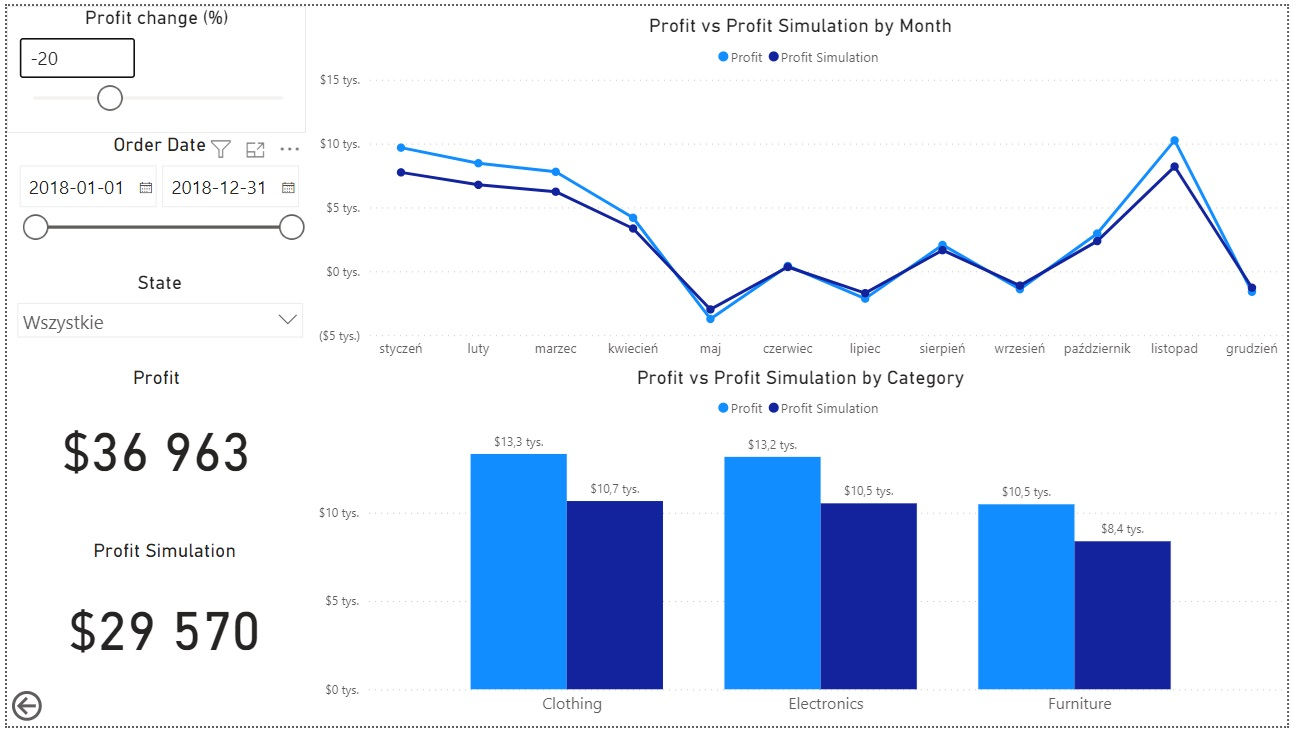

The page's visual inventory and layout, read from the dashboard file:
{"tool":"powerbi","page":{"name":"Details","canvas":[1280,720],"ordinal":1},"visuals":[{"type":"slicer","title":"Order Date","fields":{"Values":["Orders.Order Date"]},"box":[0,127.5,305.7,137.1],"z":0},{"type":"lineChart","title":"Profit vs Profit Simulation by Month","fields":{"Y":["Sum(Details.Profit)","Details.Profit Simulation"],"Category":["Orders.Order Date.Odmiana.Hierarchia dat.Miesiąc"]},"box":[305.7,8.2,974.8,352.4],"z":1000},{"type":"slicer","title":"Profit change (%)","fields":{"Values":["Profit change (%).Profit change (%)"]},"box":[0,0,298.9,127.5],"z":2000},{"type":"card","title":"Profit","fields":{"Values":["Sum(Details.Profit)"]},"box":[0,360.6,298.9,137.1],"z":3000},{"type":"card","title":"Profit Simulation","fields":{"Values":["Details.Profit Simulation"]},"box":[0,533.3,315.3,148.1],"z":4000},{"type":"slicer","title":"State","fields":{"Values":["Orders.State"]},"box":[0,264.6,305.7,90.5],"z":5000},{"type":"clusteredColumnChart","title":"Profit vs Profit Simulation by Category","fields":{"Category":["Details.Category"],"Y":["Sum(Details.Profit)","Details.Profit Simulation"]},"box":[305.7,360.6,974.8,359.2],"z":6000},{"type":"actionButton","box":[0,680,100.1,39.8],"z":7000}]}

Visuals, with their boxes in screenshot pixels (x1, y1, x2, y2), scaled from the page's 1280x720 canvas onto the 1301x738 screenshot:
"Order Date" slicer: box(0, 131, 311, 271)
"Profit vs Profit Simulation by Month" lineChart: box(311, 8, 1300, 370)
"Profit change (%)" slicer: box(0, 0, 304, 131)
"Profit" card: box(0, 370, 304, 510)
"Profit Simulation" card: box(0, 547, 320, 698)
"State" slicer: box(0, 271, 311, 364)
"Profit vs Profit Simulation by Category" clusteredColumnChart: box(311, 370, 1300, 737)
actionButton: box(0, 697, 102, 737)
